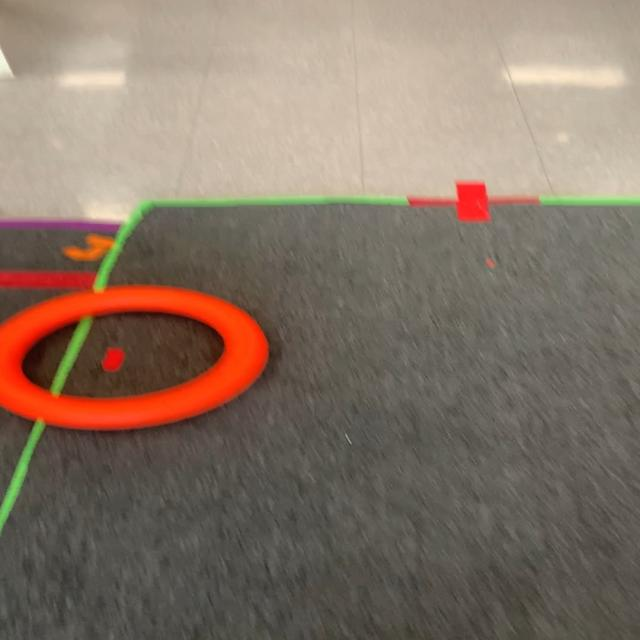notes: (0, 283, 273, 430)
